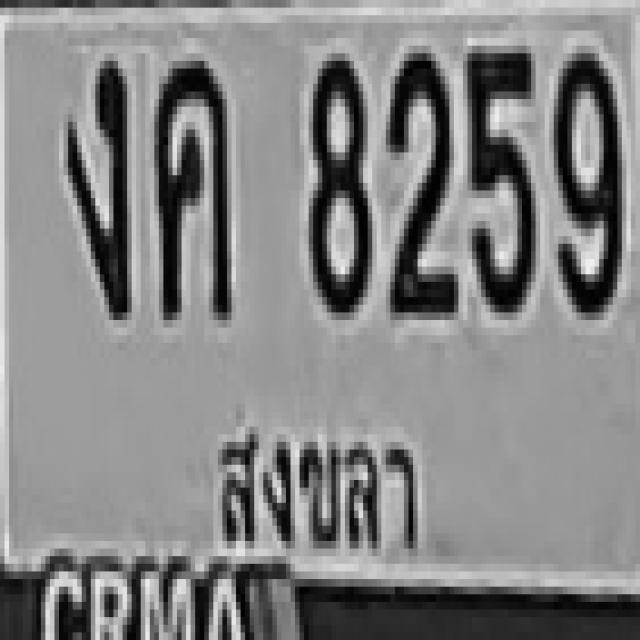13KhorKhwai: (145, 30, 241, 387)
16NgorNgu: (59, 45, 144, 383)
2: (387, 53, 457, 358)
5: (442, 20, 552, 358)
8: (281, 23, 388, 339)
9: (530, 24, 628, 372)
Songkhla: (181, 381, 439, 614)
